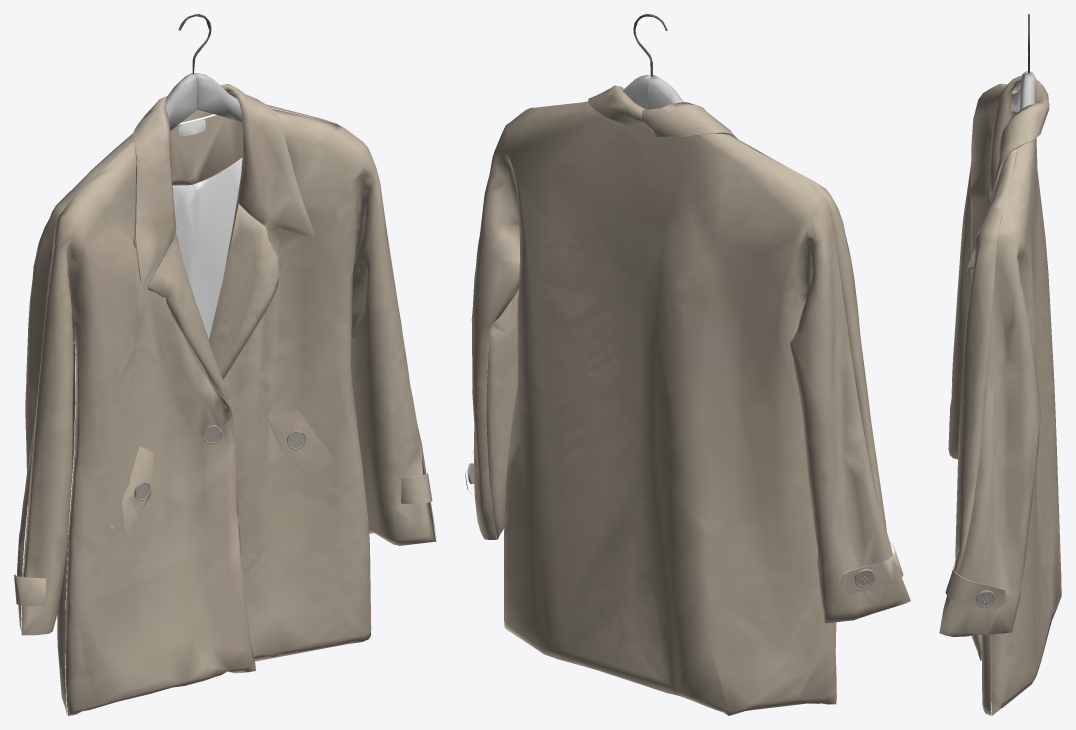
Rendered from clothes06_coat_01.glb.
3 renders of one model, left to right at view 1: azimuth 30°, elevation 25°; view 2: azimuth 150°, elevation 25°; view 3: azimuth 270°, elevation 25°, orthographic. The views are drawn at different scales.
Parts seen in each view (by area): view 1: clothes06_coat_01_StaticMeshComponent0, BP_clothes06_hanger_01_StaticMeshComponent0; view 2: clothes06_coat_01_StaticMeshComponent0, BP_clothes06_hanger_01_StaticMeshComponent0; view 3: clothes06_coat_01_StaticMeshComponent0, BP_clothes06_hanger_01_StaticMeshComponent0.
Part boxes in pixels (x1,y1,x2,y2): clothes06_coat_01_StaticMeshComponent0: (14,84,436,715); BP_clothes06_hanger_01_StaticMeshComponent0: (55,14,241,230); clothes06_coat_01_StaticMeshComponent0: (465,85,910,715); BP_clothes06_hanger_01_StaticMeshComponent0: (623,14,701,138); clothes06_coat_01_StaticMeshComponent0: (939,75,1061,715); BP_clothes06_hanger_01_StaticMeshComponent0: (997,14,1036,244).
Bounding box in the file's own units: 0.5855 × 0.8803 × 0.1554.
6 materials, 3 textured.
